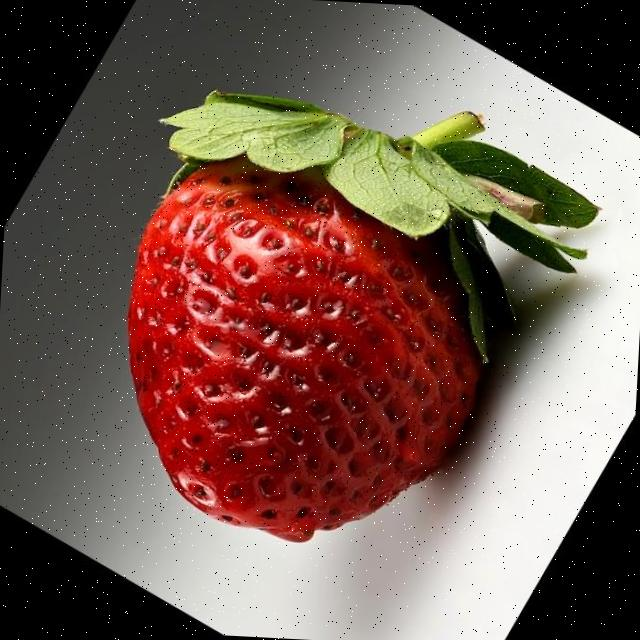strawberry: (128, 90, 598, 542)
